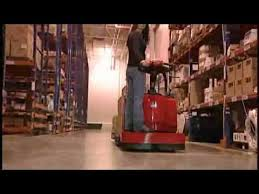Pallet Jack: (110, 58, 188, 154)
